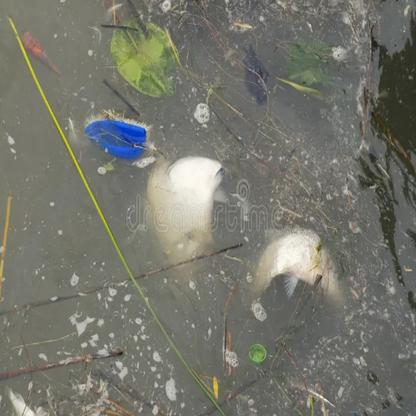deceased fish: (255, 226, 339, 297)
